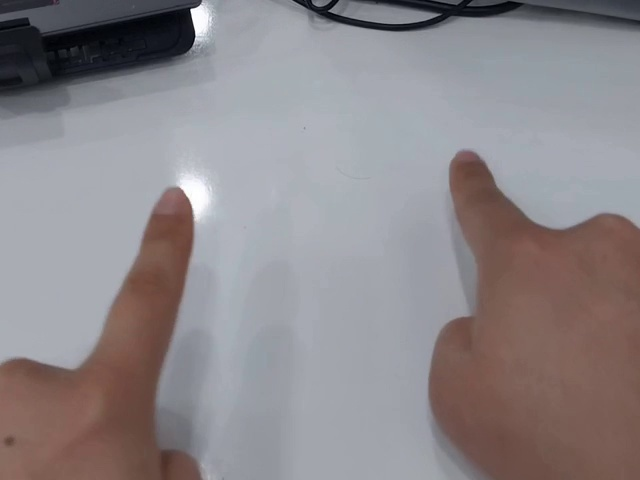fingers: (146, 184, 195, 245), (449, 149, 495, 191)
